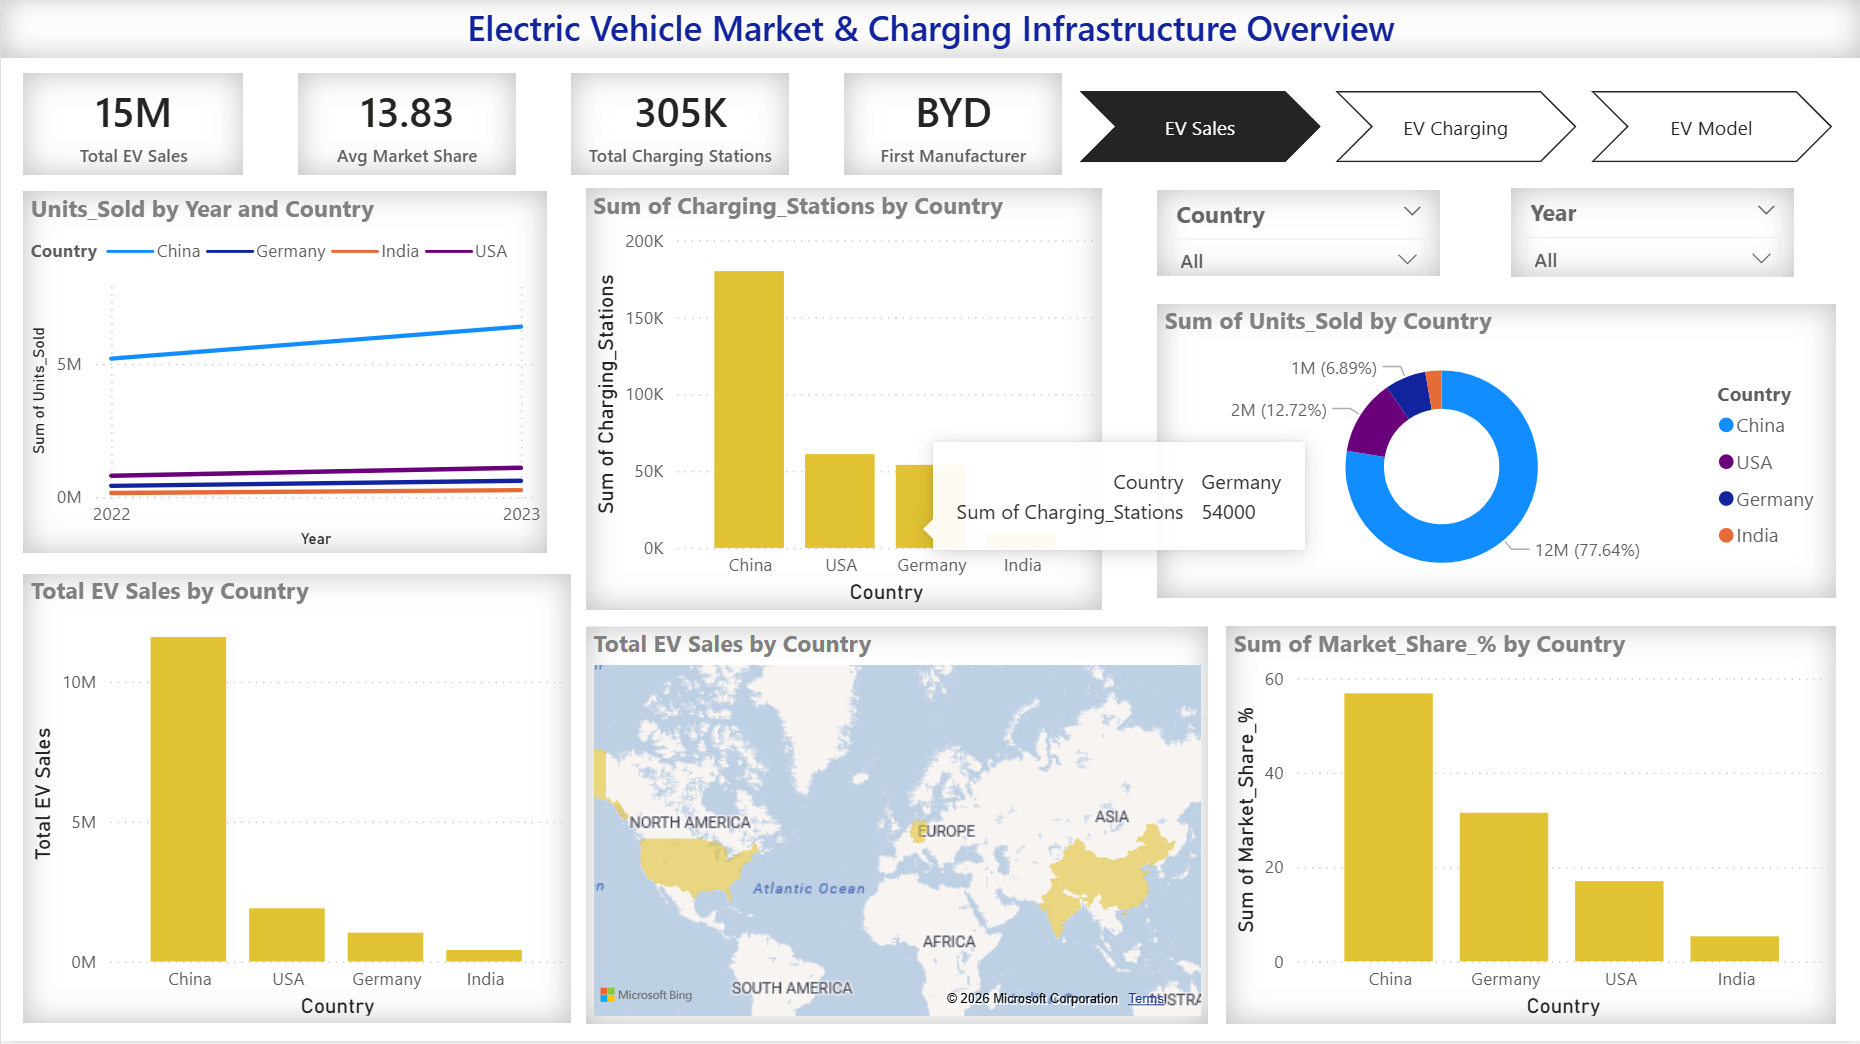

The page's visual inventory and layout, read from the dashboard file:
{"tool":"powerbi","page":{"name":"EV Sales","canvas":[1280,720],"ordinal":0},"visuals":[{"type":"textbox","box":[0,0,1280,43.4],"z":0},{"type":"lineChart","title":"Units_Sold by Year and Country","fields":{"Category":["EV_Sales.Year"],"Series":["EV_Sales.Country"],"Y":["Sum(EV_Sales.Units_Sold)"]},"box":[15.7,135.3,360.1,248.9],"z":1000},{"type":"clusteredColumnChart","fields":{"Category":["EV_Sales.Country"],"Y":["EV_Sales.Total EV Sales"]},"box":[15.7,398.7,377,309.3],"z":2000},{"type":"clusteredColumnChart","fields":{"Category":["EV_Charging.Country"],"Y":["Sum(EV_Charging.Charging_Stations)"]},"box":[402.4,132.9,355.2,290],"z":3000},{"type":"filledMap","fields":{"Category":["EV_Sales.Country"]},"box":[402.4,435,427.7,273.1],"z":4000},{"type":"slicer","fields":{"Values":["EV_Sales.Country"]},"box":[796.3,134.1,194.5,59.2],"z":5000},{"type":"slicer","fields":{"Values":["EV_Sales.Year"]},"box":[1039.1,132.9,194.5,60.4],"z":6000},{"type":"clusteredColumnChart","fields":{"Category":["EV_Sales.Country"],"Y":["Sum(EV_Sales.Market_Share_%)"]},"box":[843.4,435,419.3,273.1],"z":7000},{"type":"donutChart","fields":{"Category":["EV_Sales.Country"],"Y":["Sum(EV_Sales.Units_Sold)"]},"box":[796.3,212.7,466.4,201.8],"z":8000},{"type":"card","fields":{"Values":["EV_Sales.Total EV Sales"]},"box":[15.7,53.2,151,70],"z":9000},{"type":"card","fields":{"Values":["Min(EV_Model.Manufacturer)"]},"box":[580,53.2,149.8,70.1],"z":10000},{"type":"card","fields":{"Values":["EV_Charging.Total Charging Stations"]},"box":[392.2,53.2,150,70],"z":11000},{"type":"card","fields":{"Values":["EV_Sales.Avg Market Share"]},"box":[204.5,53.2,149.8,70.1],"z":12000},{"type":"pageNavigator","box":[741.9,66.5,520.8,49.5],"z":13000}]}

Visuals, with their boxes in screenshot pixels (x1, y1, x2, y2), scaled from the page's 1280x720 canvas onto the 1860x1044 screenshot:
textbox: x1=0 y1=0 x2=1859 y2=63
"Units_Sold by Year and Country" lineChart: x1=23 y1=196 x2=546 y2=557
clusteredColumnChart - EV_Sales.Country x EV_Sales.Total EV Sales: x1=23 y1=578 x2=571 y2=1027
clusteredColumnChart - EV_Charging.Country x Sum(EV_Charging.Charging_Stations): x1=585 y1=193 x2=1101 y2=613
filledMap - EV_Sales.Country: x1=585 y1=631 x2=1206 y2=1027
slicer - EV_Sales.Country: x1=1157 y1=194 x2=1440 y2=280
slicer - EV_Sales.Year: x1=1510 y1=193 x2=1793 y2=280
clusteredColumnChart - EV_Sales.Country x Sum(EV_Sales.Market_Share_%): x1=1226 y1=631 x2=1835 y2=1027
donutChart - EV_Sales.Country x Sum(EV_Sales.Units_Sold): x1=1157 y1=308 x2=1835 y2=601
card - EV_Sales.Total EV Sales: x1=23 y1=77 x2=242 y2=179
card - Min(EV_Model.Manufacturer): x1=843 y1=77 x2=1060 y2=179
card - EV_Charging.Total Charging Stations: x1=570 y1=77 x2=788 y2=179
card - EV_Sales.Avg Market Share: x1=297 y1=77 x2=515 y2=179
pageNavigator: x1=1078 y1=96 x2=1835 y2=168
